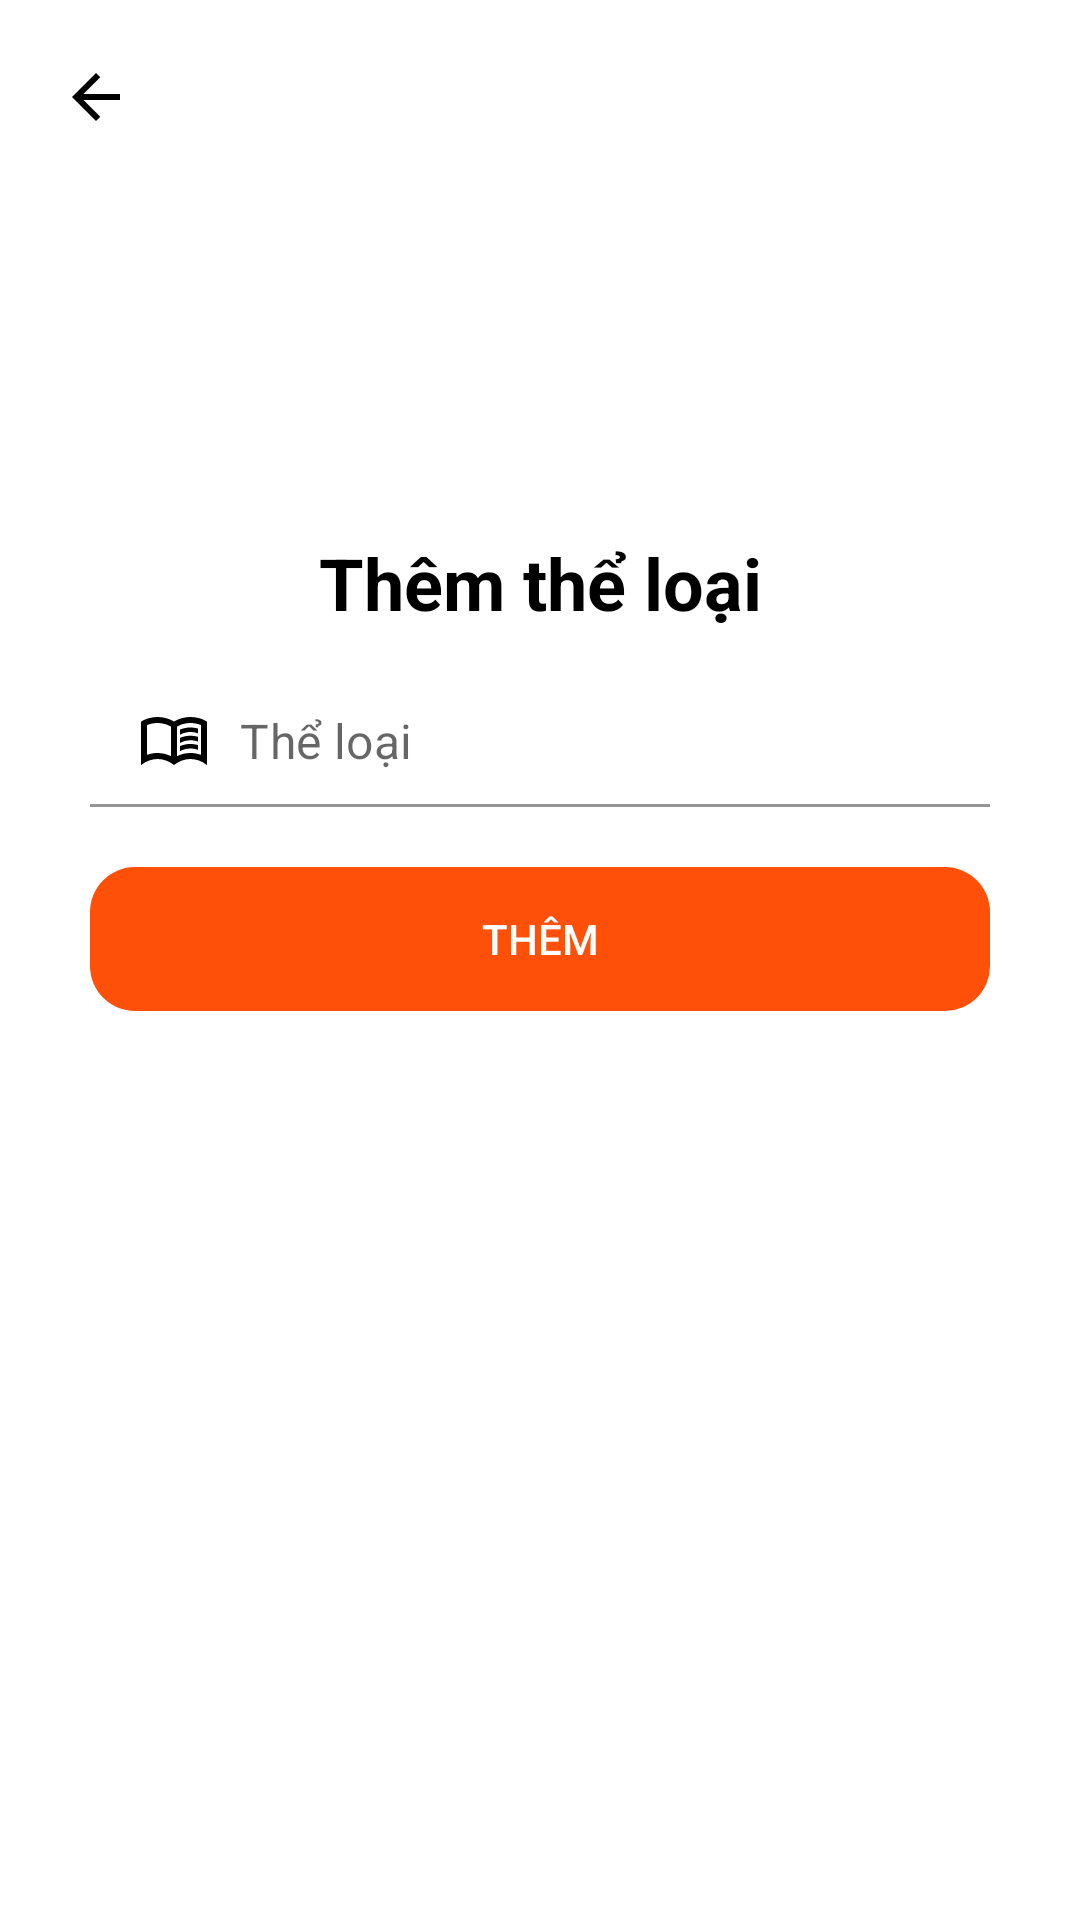

Icons on this 1080px x 1920px Android screen, each with the point to tap as point (x, y):
back: point (96, 97)
